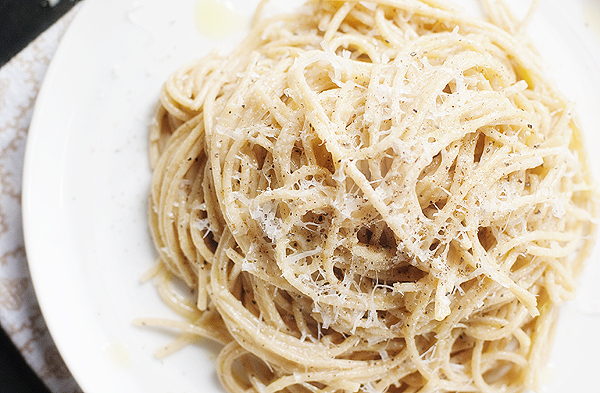plain spaghetti: (172, 29, 578, 379)
